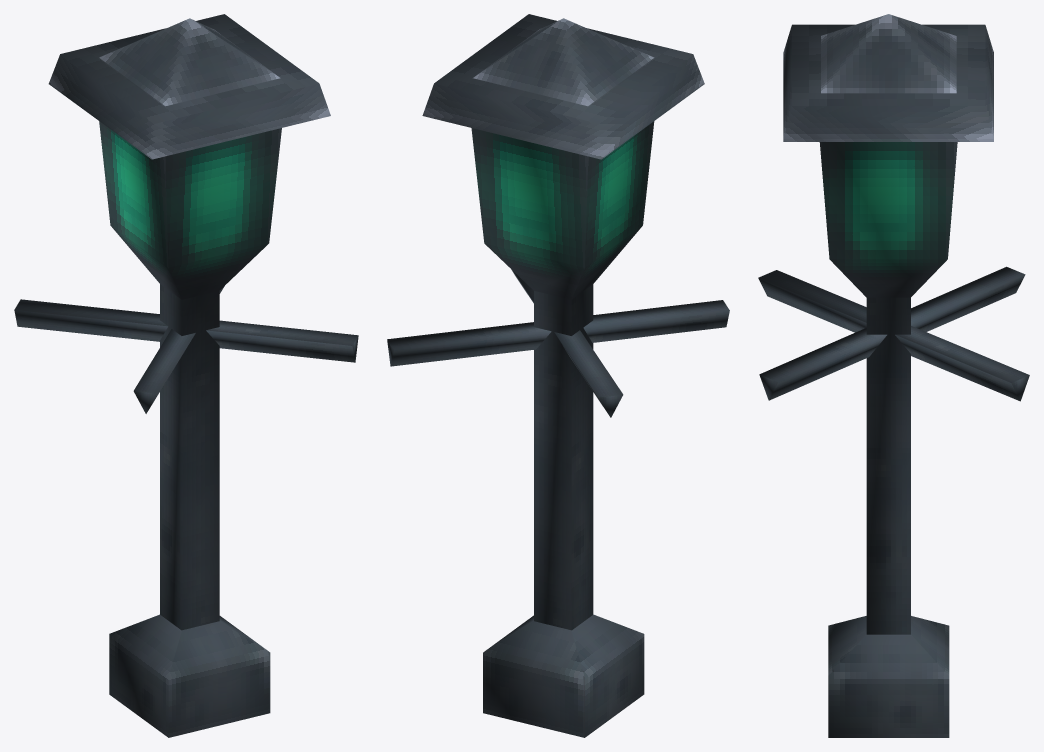
Rendered from hasl_muwu_02_deng.FBX.
The picture shows the model from 3 angles, left to right: view 1: azimuth 30°, elevation 25°; view 2: azimuth 150°, elevation 25°; view 3: azimuth 270°, elevation 25°; orthographic projection.
Visible parts, largest first — view 1: hasl_muwu_02_deng; view 2: hasl_muwu_02_deng; view 3: hasl_muwu_02_deng.
Part boxes in pixels (x1,y1,x2,y2): hasl_muwu_02_deng: [14, 14, 358, 737]; hasl_muwu_02_deng: [387, 14, 729, 737]; hasl_muwu_02_deng: [758, 14, 1029, 737].
Size of the model in its own units: 54.47 by 152 by 53.76.
